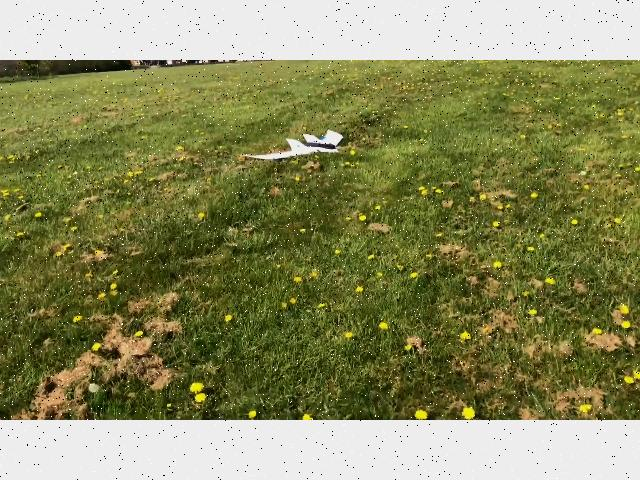Anti-Drone: (241, 118, 357, 173)
